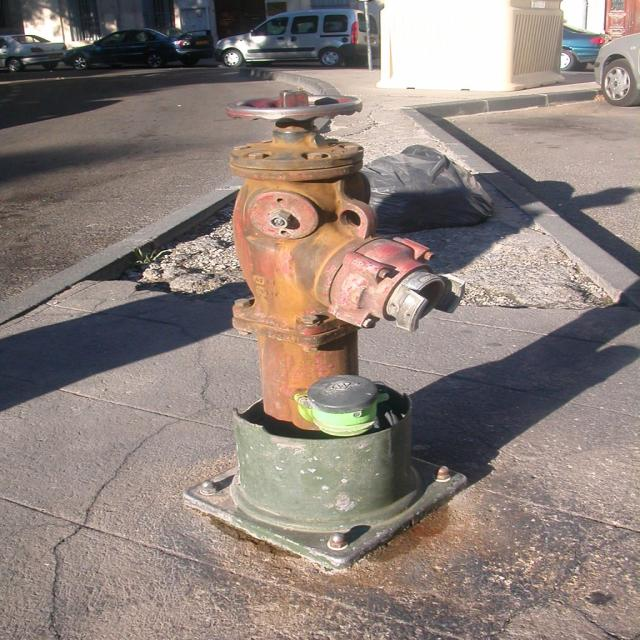fire_hydrant: (182, 89, 470, 569)
